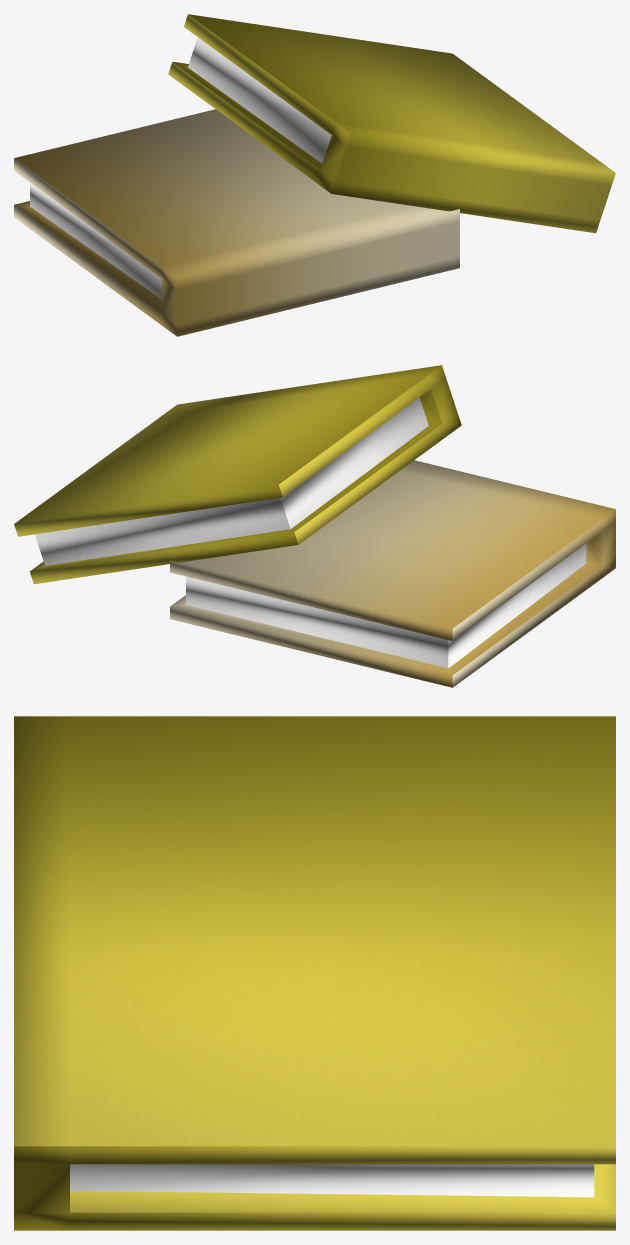
Rendered from Props_Book_05.fbx.
The picture shows the model from 3 angles, top to bottom: view 1: azimuth 30°, elevation 25°; view 2: azimuth 150°, elevation 25°; view 3: azimuth 270°, elevation 25°; orthographic projection. The views are drawn at different scales.
Visible parts, largest first — view 1: Props_Book_05; view 2: Props_Book_05; view 3: Props_Book_05.
Part boxes in pixels (box(x1,y1,x2,y2)): Props_Book_05: box(14, 14, 615, 336); Props_Book_05: box(14, 365, 615, 687); Props_Book_05: box(14, 716, 615, 1230).
Size of the model in its own units: 78.52 by 27.54 by 50.6.
